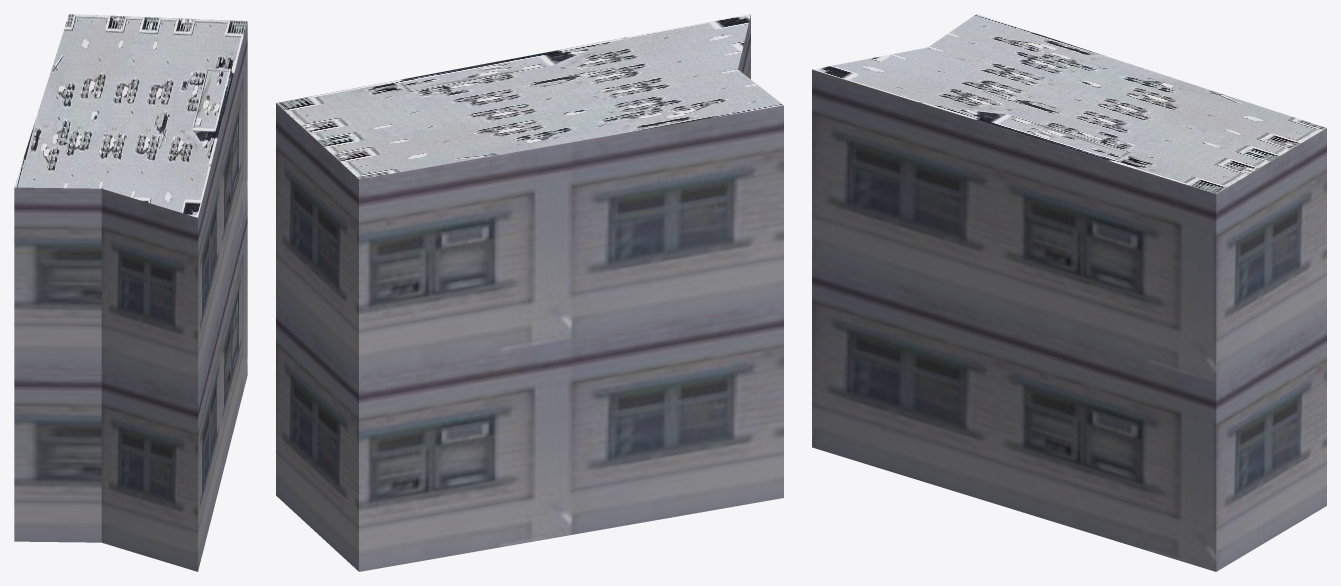
The model's file is ResTex__1129.fbx.
3 views of the same model, side by side, from view 1: azimuth 30°, elevation 25°; view 2: azimuth 150°, elevation 25°; view 3: azimuth 270°, elevation 25° (orthographic). The views are drawn at different scales.
Parts seen in each view (by area): view 1: CityEngineMaterial_1_m, CityEngineMaterial_m; view 2: CityEngineMaterial_1_m, CityEngineMaterial_m; view 3: CityEngineMaterial_1_m, CityEngineMaterial_m.
Part boxes in pixels (x1,y1,x2,y2): CityEngineMaterial_1_m: (14, 22, 247, 571); CityEngineMaterial_m: (14, 14, 247, 217); CityEngineMaterial_1_m: (276, 15, 783, 571); CityEngineMaterial_m: (276, 14, 783, 179); CityEngineMaterial_1_m: (812, 69, 1326, 571); CityEngineMaterial_m: (812, 14, 1326, 193).
Size of the model in its own units: 6.13 by 6 by 7.41.
2 materials, 2 textured.
